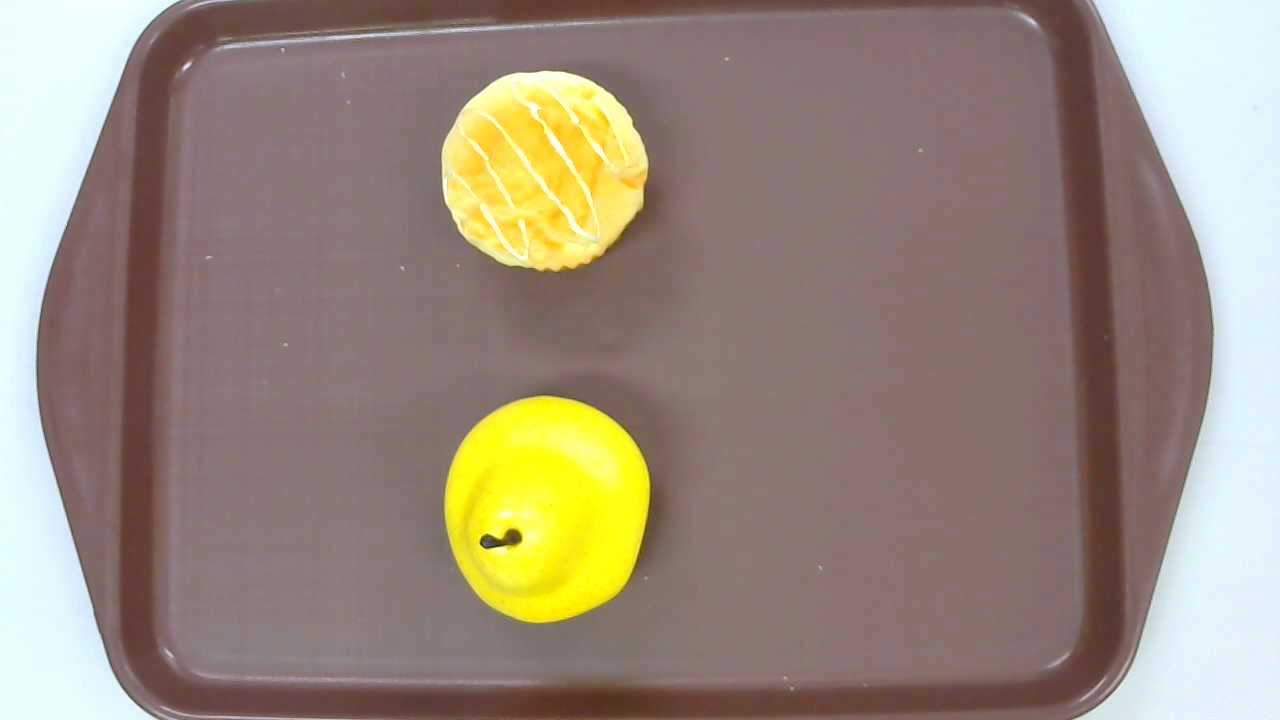cupcake: (440, 69, 650, 273)
yellow pear: (443, 395, 653, 624)
